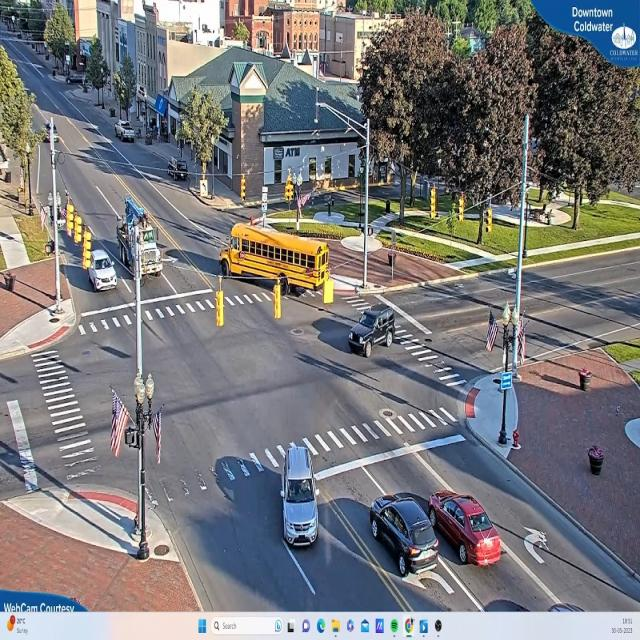bus: (222, 221, 331, 298)
car: (427, 491, 506, 568), (369, 493, 442, 576), (280, 444, 318, 546), (346, 306, 398, 361), (88, 250, 119, 291), (117, 122, 137, 145)
truck: (115, 200, 169, 285)
